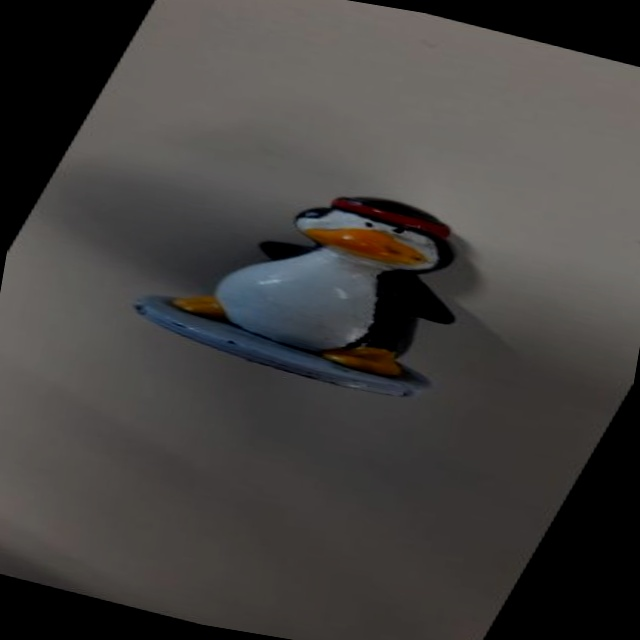Penguin: (108, 139, 536, 425)
